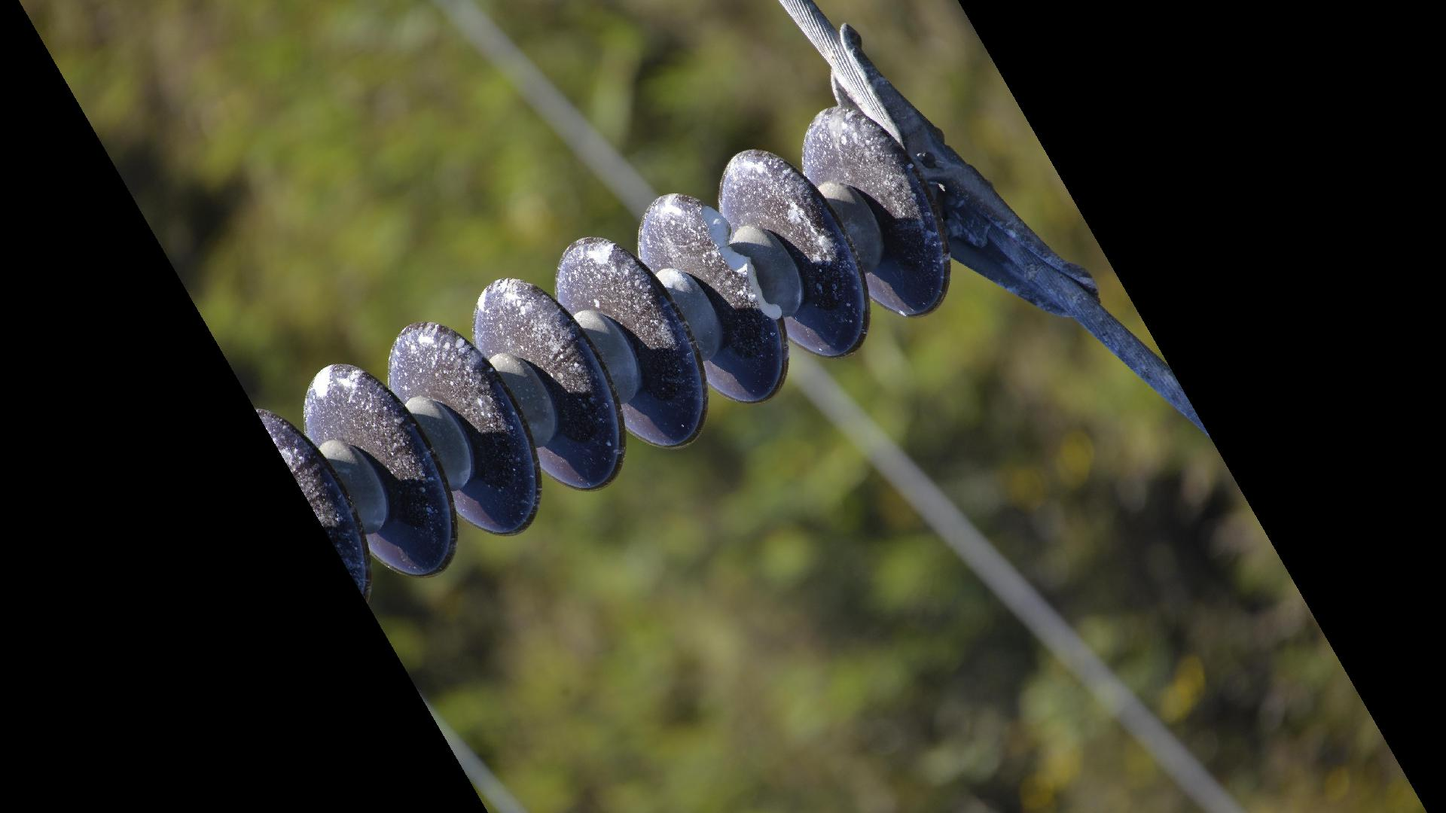insulator: (264, 99, 960, 596)
insulator_breakage: (679, 190, 801, 339)
